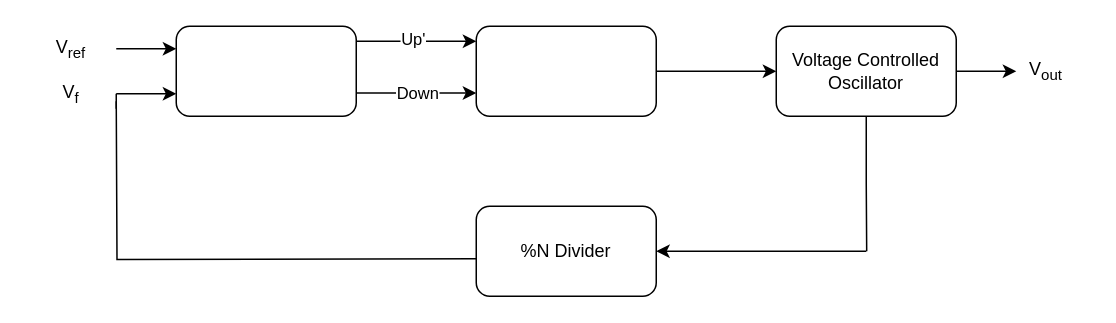
This 1116x323 diagram has some shape labels left out. Each missing label, with the centre of its shape:
Charge Pump + Loop Filter: the point at 565,70
Phase/Frequency Detector: the point at 265,70
